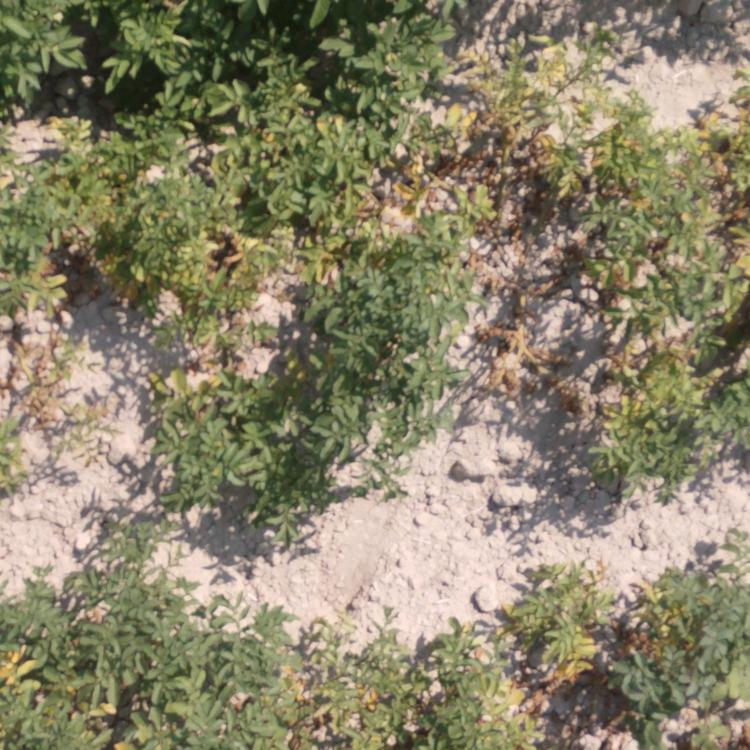healthy: (1, 1, 430, 102), (302, 244, 458, 469), (146, 406, 283, 535)
stressed: (1, 105, 289, 312), (590, 111, 750, 479), (4, 582, 249, 750), (520, 573, 740, 750), (272, 612, 500, 750), (448, 46, 582, 219), (282, 105, 452, 238), (182, 325, 271, 387), (488, 274, 538, 381), (19, 361, 70, 441)
